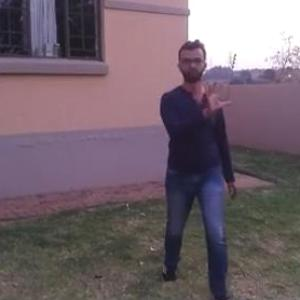follow_hand: (202, 78, 232, 112)
